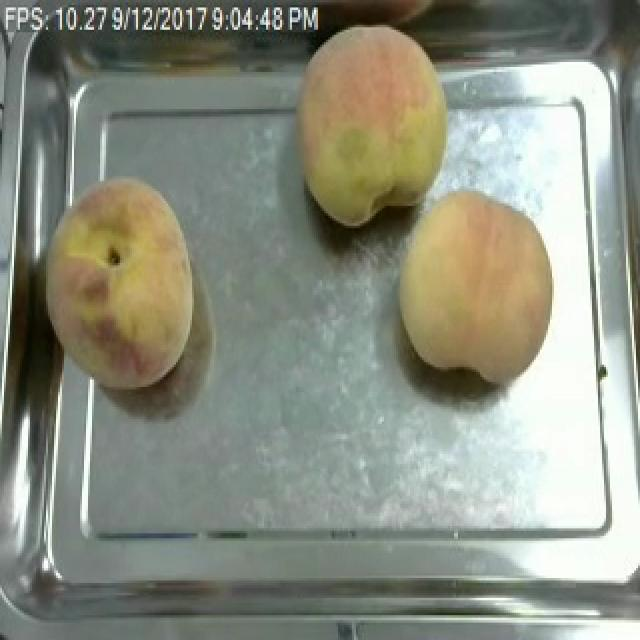Fruit: (30, 169, 202, 399), (280, 15, 458, 236), (388, 181, 564, 387)
